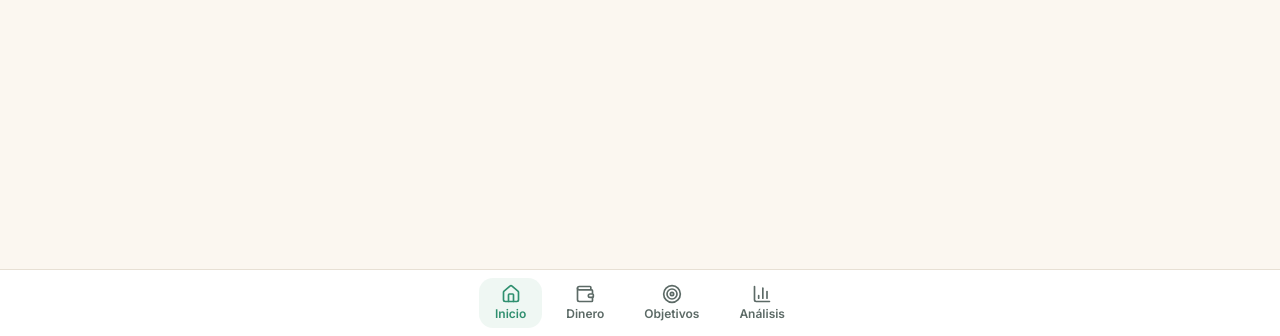
it: AppNav (grouped bottom nav) › keeps group destinations hidden until the pill is clicked
The image size is (1280, 336).
Expected: the menu item "Movimientos" is not shown
Click the button "Dinero": (585, 303) [550, 278, 620, 328]
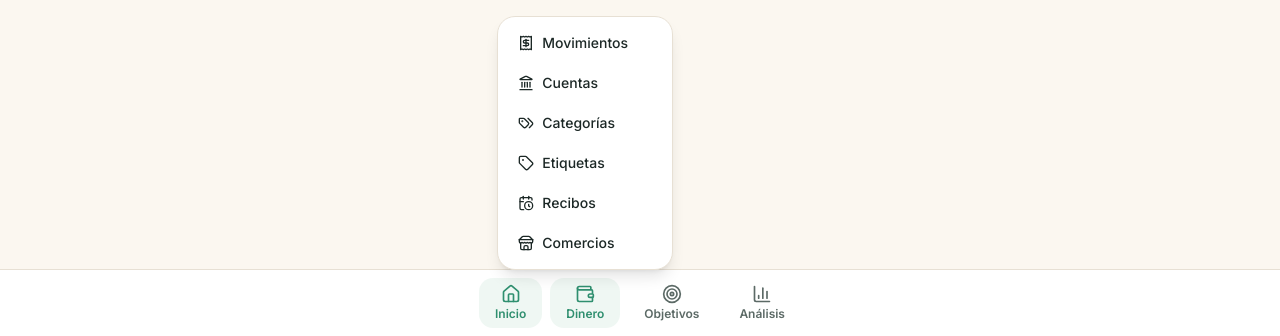
Now the menu named "Dinero" is shown, box [497, 16, 673, 270]
Now the menu item "Movimientos" is shown, box [518, 34, 628, 51]
Now the menu item "Cuentas" is shown, box [518, 74, 598, 91]
